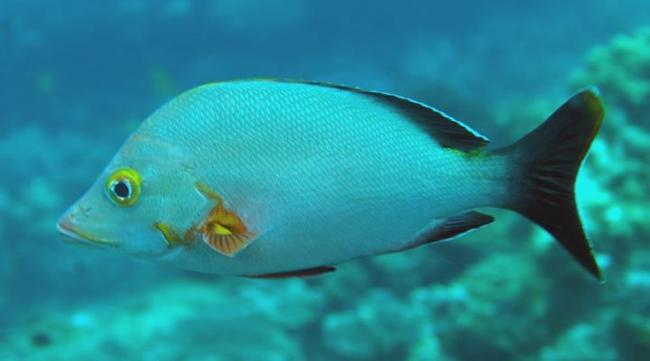fish: (55, 76, 605, 285)
